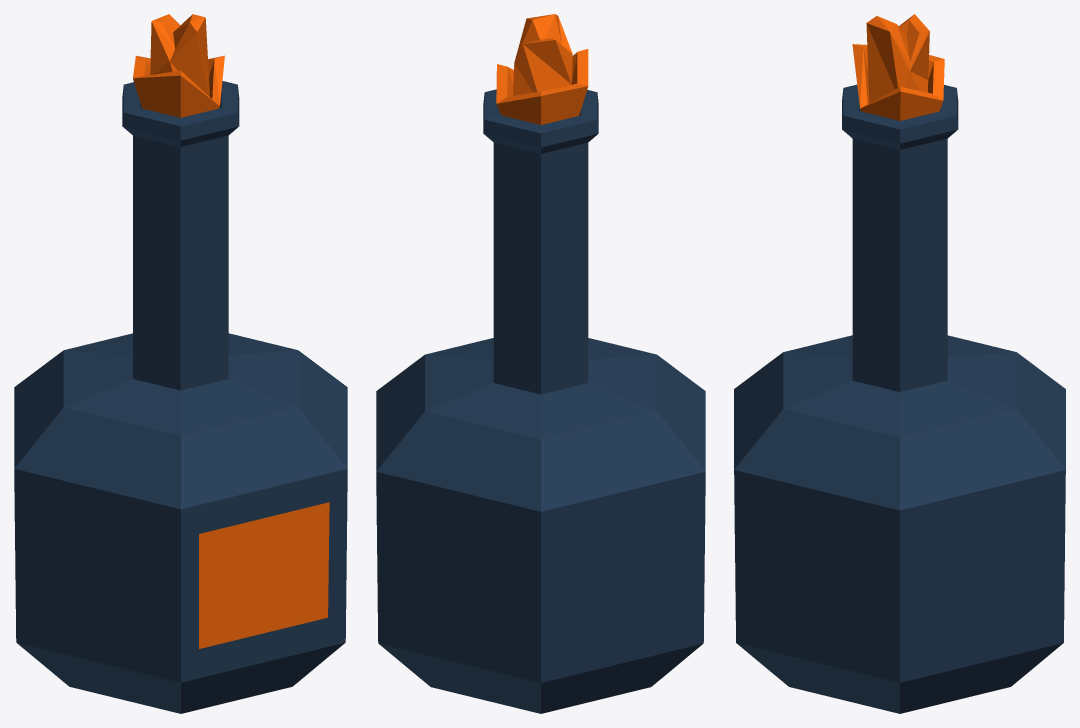
Rendered from bottle-alchemy-aqua-full.fbx.
The picture shows the model from 3 angles, left to right: view 1: azimuth 30°, elevation 25°; view 2: azimuth 150°, elevation 25°; view 3: azimuth 270°, elevation 25°; orthographic projection.
Parts seen in each view (by area): view 1: bottle-alchemy-aqua-full; view 2: bottle-alchemy-aqua-full; view 3: bottle-alchemy-aqua-full.
Boxes of the visible parts, box(x1,y1,x2,y2) form: bottle-alchemy-aqua-full: box(14, 14, 347, 713); bottle-alchemy-aqua-full: box(376, 14, 705, 713); bottle-alchemy-aqua-full: box(734, 14, 1065, 713).
Bounding box in the file's own units: 179 × 331 × 155.
